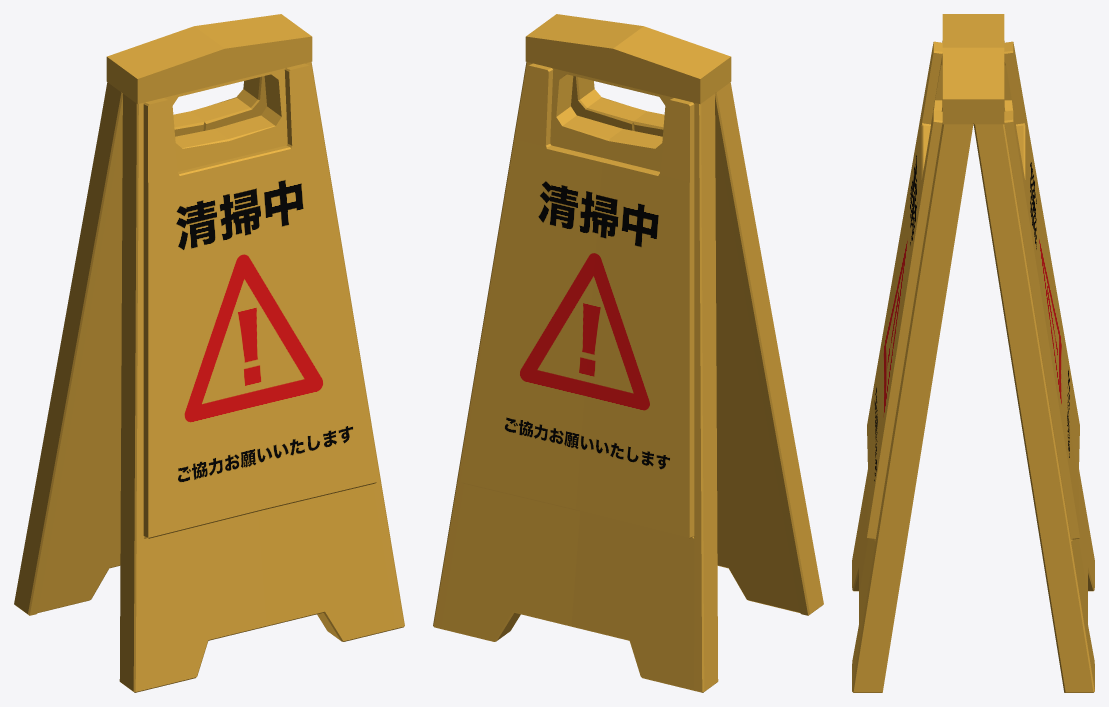
The model's file is signboard_v3.fbx.
The picture shows the model from 3 angles, left to right: view 1: azimuth 30°, elevation 25°; view 2: azimuth 150°, elevation 25°; view 3: azimuth 270°, elevation 25°; orthographic projection.
Visible parts, largest first — view 1: Board; view 2: Board; view 3: Board.
Boxes of the visible parts, x1,y1,x2,y2 form: Board: (14, 14, 404, 692); Board: (433, 14, 823, 692); Board: (852, 14, 1094, 692).
Bounding box in the file's own units: 208 × 425 × 161.
2 materials, 1 textured.
